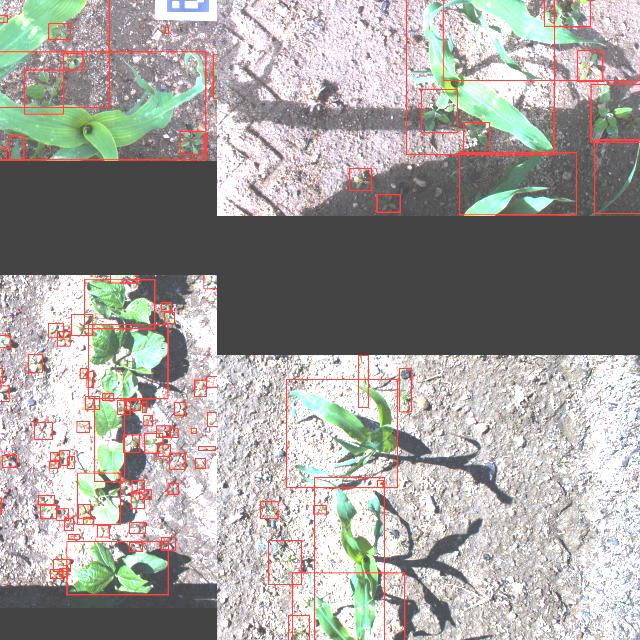crop: (406, 0, 554, 154), (0, 51, 205, 159), (442, 0, 640, 80), (286, 378, 398, 488), (0, 0, 109, 107), (314, 476, 384, 640), (292, 572, 404, 640), (459, 152, 576, 214), (89, 324, 168, 398), (66, 542, 168, 594), (85, 278, 155, 328), (595, 139, 640, 213), (94, 398, 124, 482), (77, 472, 121, 524), (72, 314, 92, 334), (10, 136, 24, 160), (110, 275, 137, 282)
weed: (591, 84, 640, 142), (24, 70, 64, 114), (421, 89, 457, 133), (268, 540, 302, 584), (544, 0, 590, 26), (463, 122, 489, 154), (578, 50, 602, 80), (180, 130, 204, 154), (399, 367, 411, 411), (288, 615, 309, 640), (358, 354, 368, 406), (349, 168, 371, 190), (378, 194, 400, 212), (144, 433, 162, 453), (49, 23, 71, 39), (122, 434, 140, 452), (34, 421, 52, 439), (260, 500, 278, 518), (63, 53, 83, 69), (28, 353, 42, 372), (48, 322, 64, 338), (169, 452, 185, 468), (160, 536, 176, 550), (40, 504, 56, 518), (194, 378, 206, 396), (130, 494, 144, 508), (54, 559, 70, 571), (58, 330, 70, 346), (128, 522, 146, 532), (2, 454, 16, 466), (78, 504, 90, 518), (85, 396, 99, 408), (174, 401, 186, 415), (203, 275, 217, 287), (118, 400, 130, 414), (38, 495, 54, 505), (76, 421, 90, 432), (0, 385, 9, 401), (57, 508, 69, 520), (158, 444, 170, 456), (59, 450, 69, 464), (156, 426, 170, 436), (207, 411, 217, 425), (126, 400, 140, 410), (132, 481, 144, 492), (86, 370, 94, 386), (0, 335, 10, 347), (64, 518, 74, 530), (97, 526, 109, 536), (130, 542, 142, 552), (139, 489, 151, 499), (168, 482, 178, 493), (196, 458, 206, 468), (207, 376, 217, 386), (165, 312, 175, 322), (50, 570, 62, 578), (102, 392, 114, 400), (314, 505, 326, 513), (83, 516, 93, 524), (50, 452, 60, 460), (49, 460, 59, 468), (144, 415, 152, 425), (161, 302, 171, 310), (80, 368, 88, 378), (0, 148, 6, 160), (198, 446, 216, 450), (68, 534, 80, 540), (68, 456, 74, 468), (170, 428, 178, 437), (60, 568, 68, 576), (0, 14, 7, 21), (377, 479, 383, 487), (143, 401, 147, 412), (0, 367, 2, 382), (191, 428, 197, 432), (166, 27, 168, 33)
